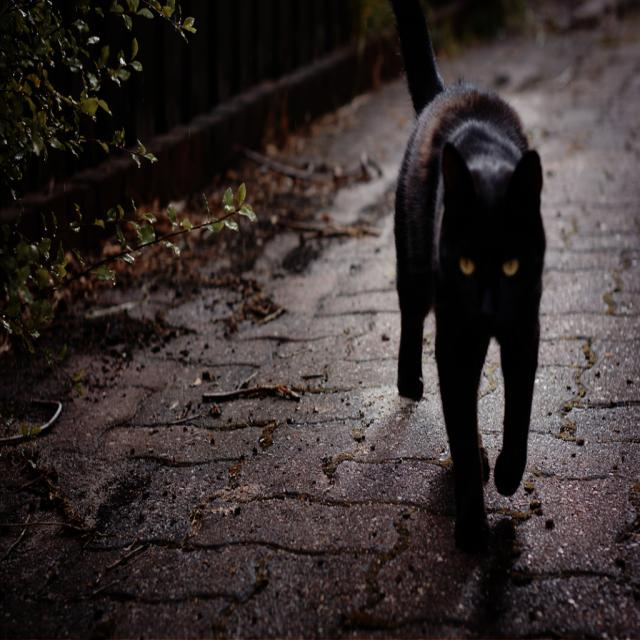Cat: (392, 0, 546, 551)
